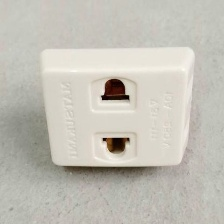three_eye_plug: (34, 40, 200, 174)
